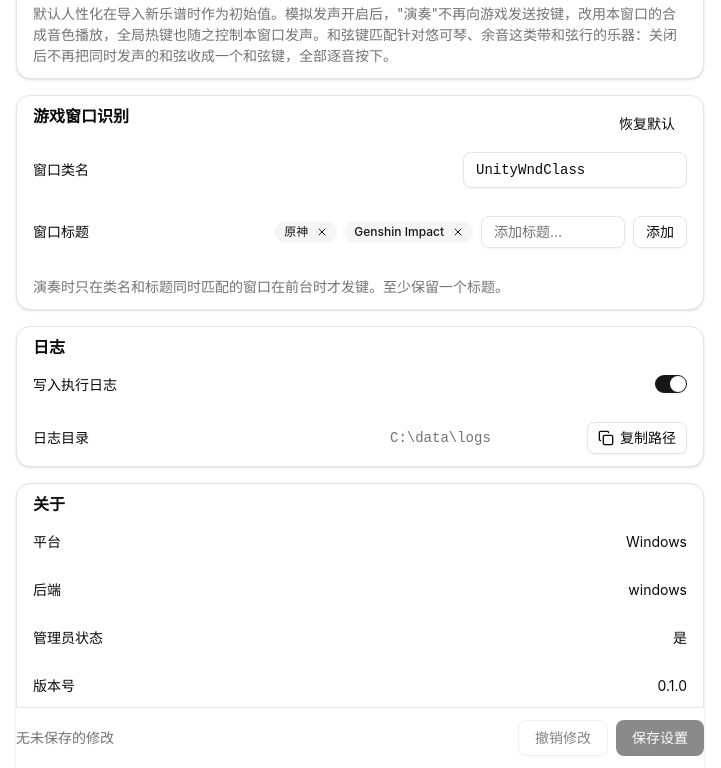
SettingsPage › 保存设置成功后清空草稿并提示
The width and height of the screenshot is (721, 768).
(page scrolled)
Click the switch named "写入执行日志".
click(671, 384)  # box [655,375,687,393]
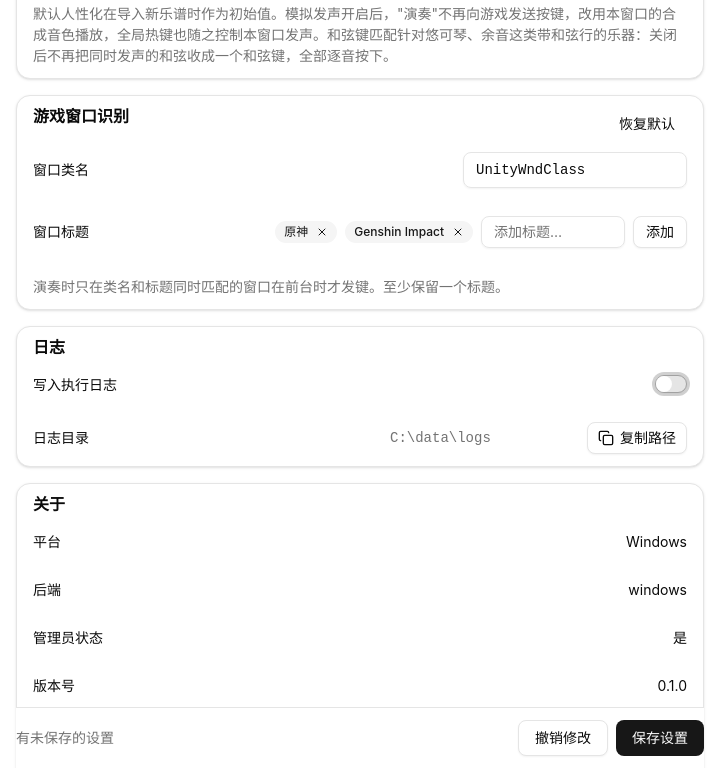
Click the button "保存设置".
click(660, 738)  # box [616,720,704,756]
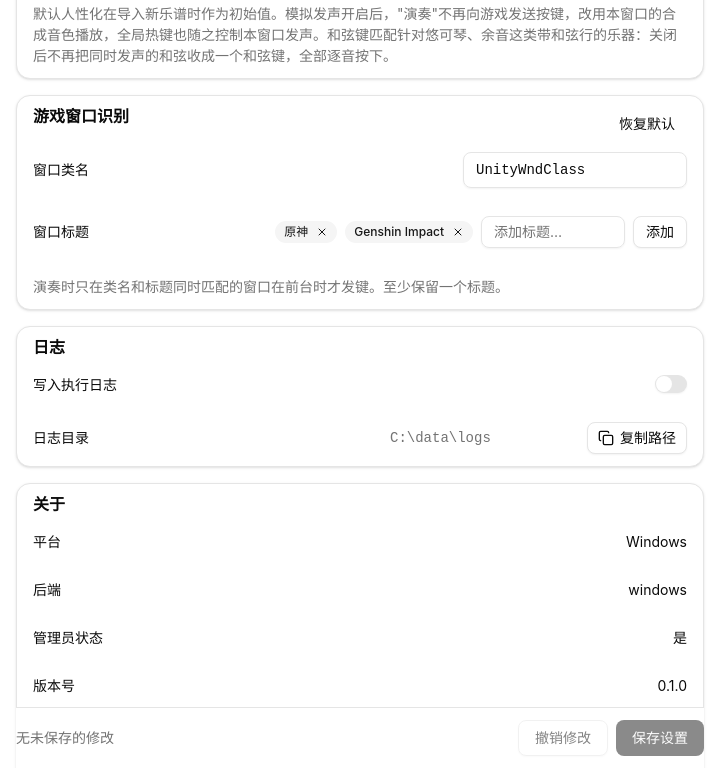
expect the button "保存设置" is disabled: met, box [616,720,704,756]
